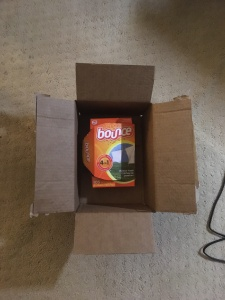innerbox: (77, 101, 155, 213)
outerbox: (33, 64, 198, 256)
product: (89, 117, 138, 189)
